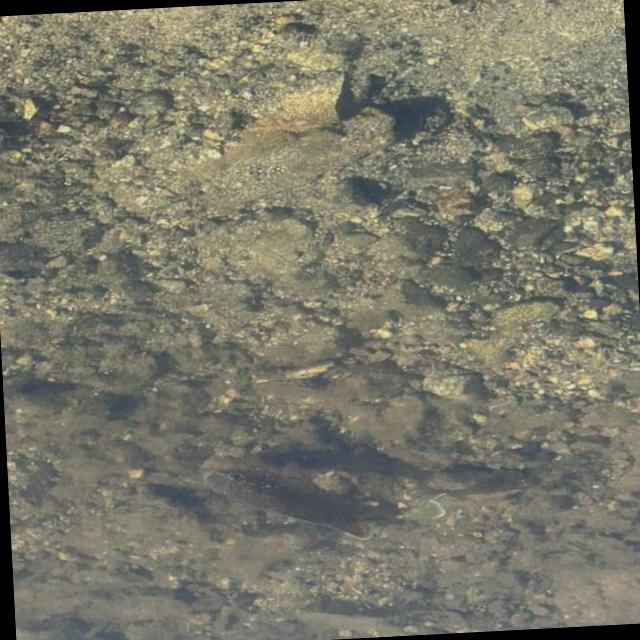Gunes Levregi: (190, 448, 407, 551)
